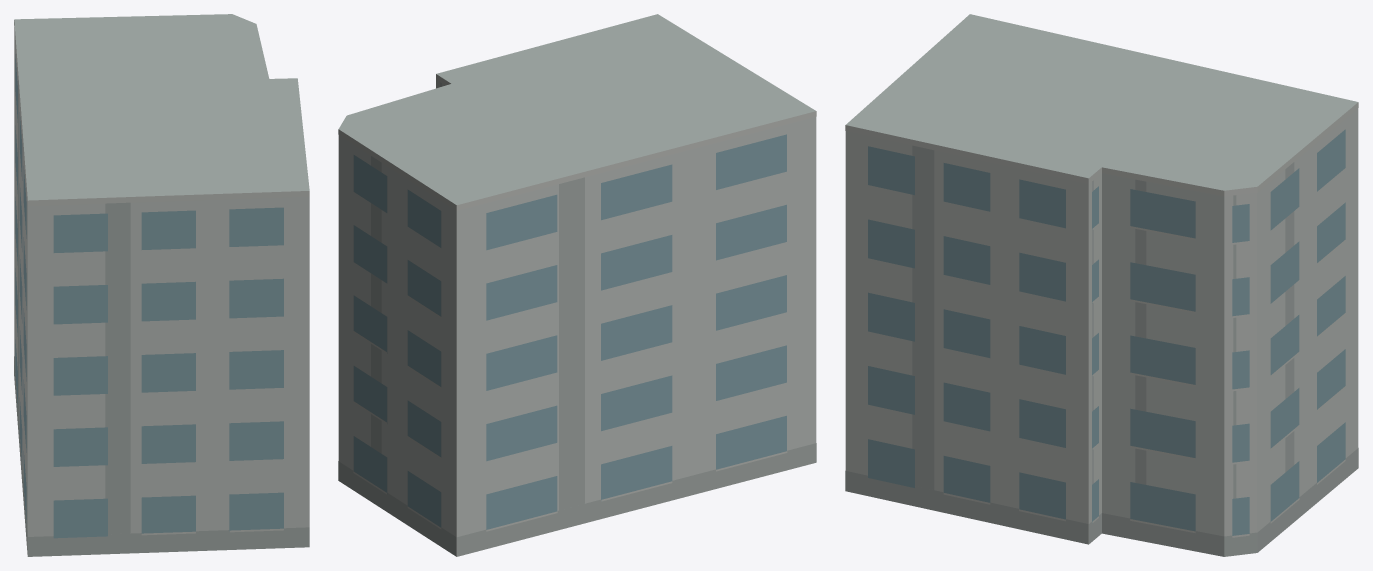
Rendered from survey-upis-32885594.glb.
3 views of the same model, side by side, from view 1: azimuth 30°, elevation 25°; view 2: azimuth 150°, elevation 25°; view 3: azimuth 270°, elevation 25° (orthographic). The views are drawn at different scales.
Parts seen in each view (by area): view 1: survey-upis-32885594.tmp; view 2: survey-upis-32885594.tmp; view 3: survey-upis-32885594.tmp.
Boxes of the visible parts, x1=… form: survey-upis-32885594.tmp: x1=14, y1=14, x2=309, y2=556; survey-upis-32885594.tmp: x1=338, y1=14, x2=816, y2=556; survey-upis-32885594.tmp: x1=845, y1=14, x2=1358, y2=556.
Bounding box in the file's own units: 15.79 × 15.25 × 19.37.
